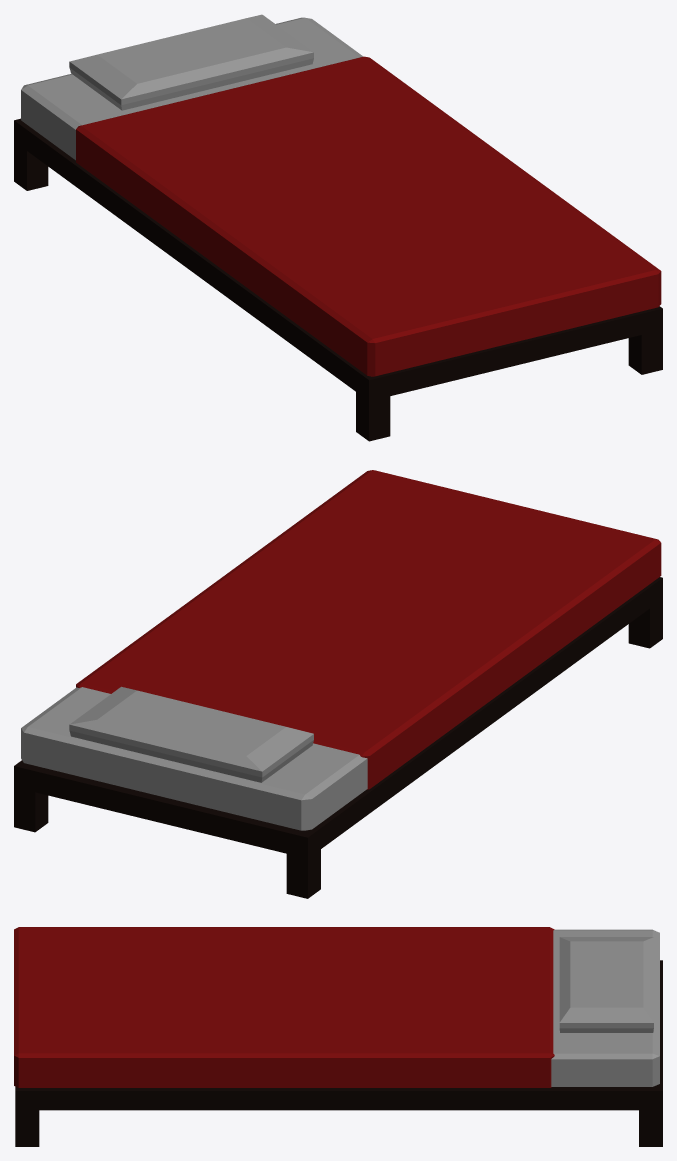
File: Cama.FBX
3 renders of one model, top to bottom at view 1: azimuth 30°, elevation 25°; view 2: azimuth 150°, elevation 25°; view 3: azimuth 270°, elevation 25°, orthographic. The views are drawn at different scales.
Visible parts, largest first — view 1: Sabana, BaseCama, Almohada, Colchon; view 2: Sabana, BaseCama, Colchon, Almohada; view 3: Sabana, BaseCama, Almohada, Colchon.
Boxes of the visible parts, left/top/right/bottom form: Sabana: left=76, top=56, right=661, bottom=376; BaseCama: left=14, top=118, right=662, bottom=441; Almohada: left=69, top=14, right=313, bottom=110; Colchon: left=21, top=17, right=362, bottom=160; Sabana: left=76, top=470, right=661, bottom=789; BaseCama: left=14, top=577, right=662, bottom=898; Colchon: left=21, top=687, right=367, bottom=830; Almohada: left=69, top=686, right=313, bottom=782; Sabana: left=14, top=927, right=554, bottom=1087; BaseCama: left=15, top=960, right=662, bottom=1146; Almohada: left=559, top=937, right=653, bottom=1032; Colchon: left=551, top=929, right=659, bottom=1086.
Bounding box in the file's own units: 24.84 × 9.47 × 52.12.
